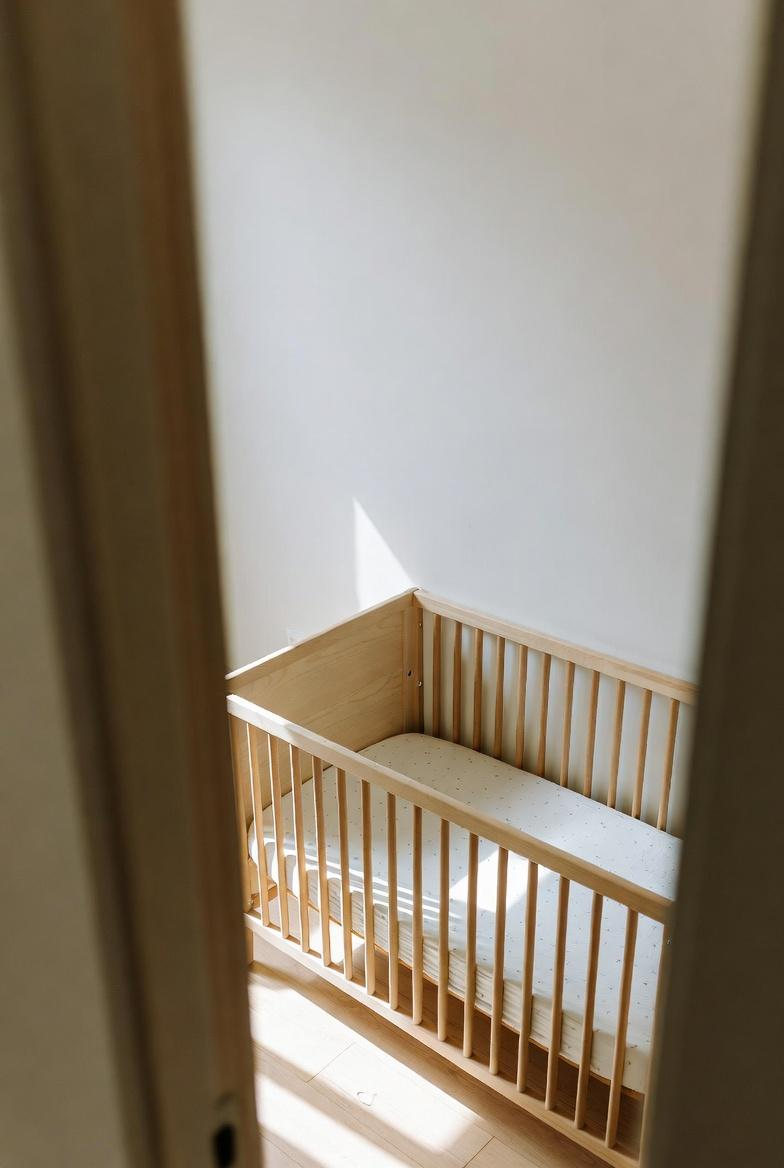crib: (228, 591, 695, 1165)
